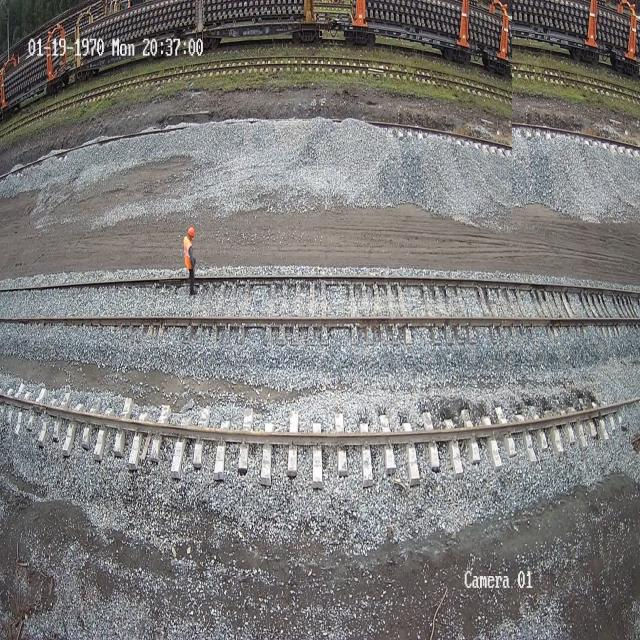Helmet: (188, 226, 195, 238)
Person: (184, 226, 198, 295)
